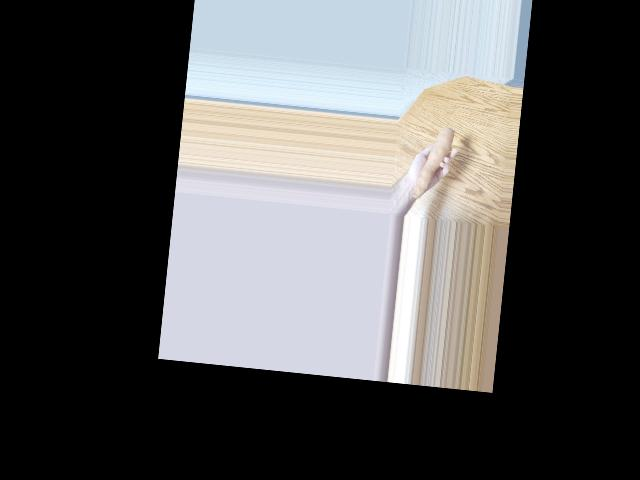sweet_potato: (410, 123, 456, 204)
